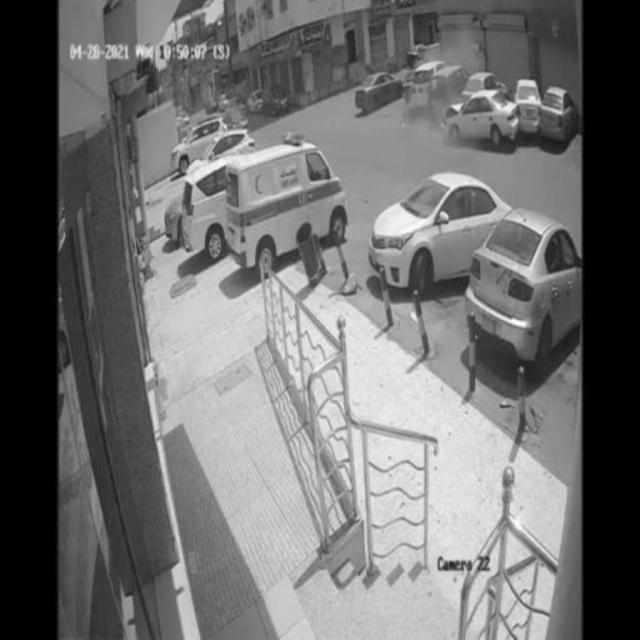accident: (440, 78, 543, 145)
vehicle: (471, 207, 582, 361), (377, 170, 509, 292), (225, 141, 347, 271)
